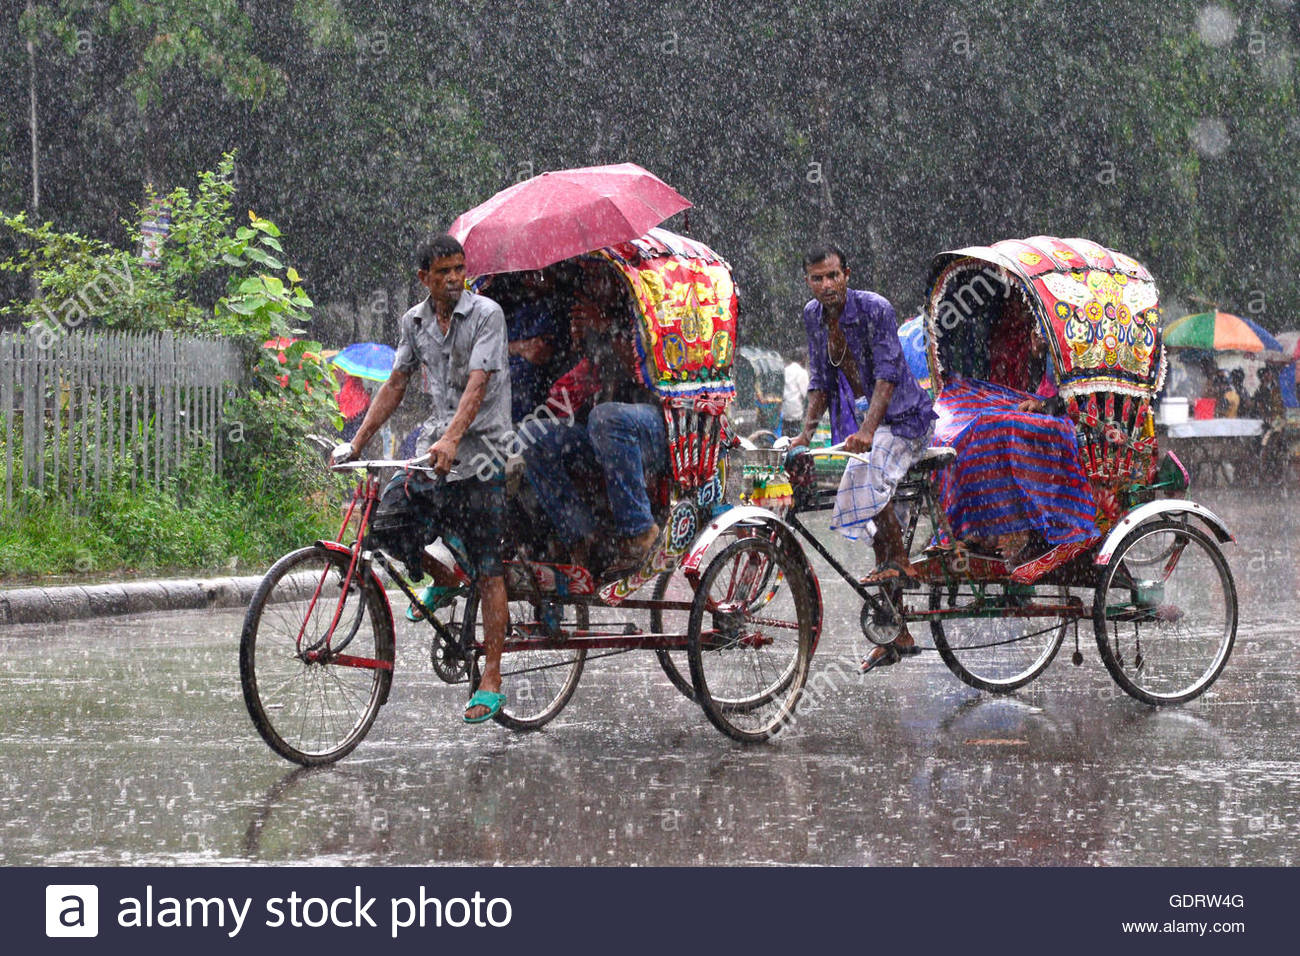Rickshaw: (707, 121, 1233, 758), (286, 188, 724, 768)
